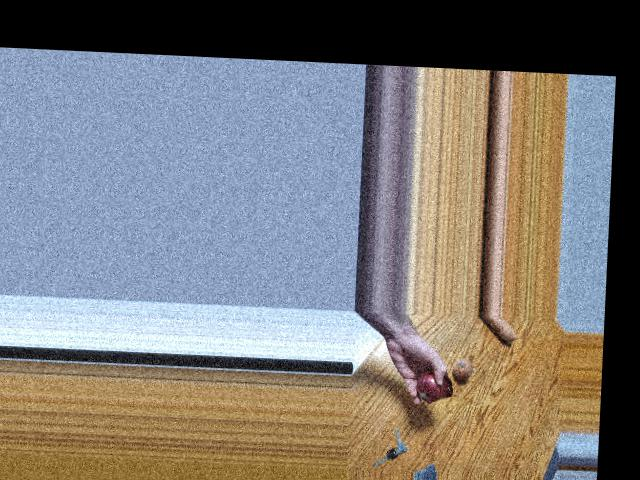onion: (446, 354, 471, 379)
